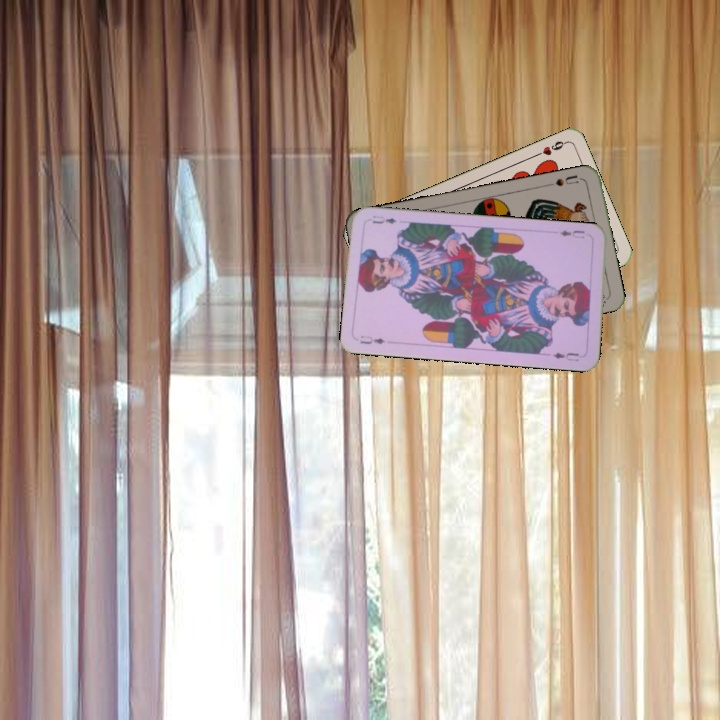EU: (556, 226, 587, 241), (356, 332, 387, 347)
H9: (530, 137, 569, 160)
SU: (544, 171, 581, 189)
